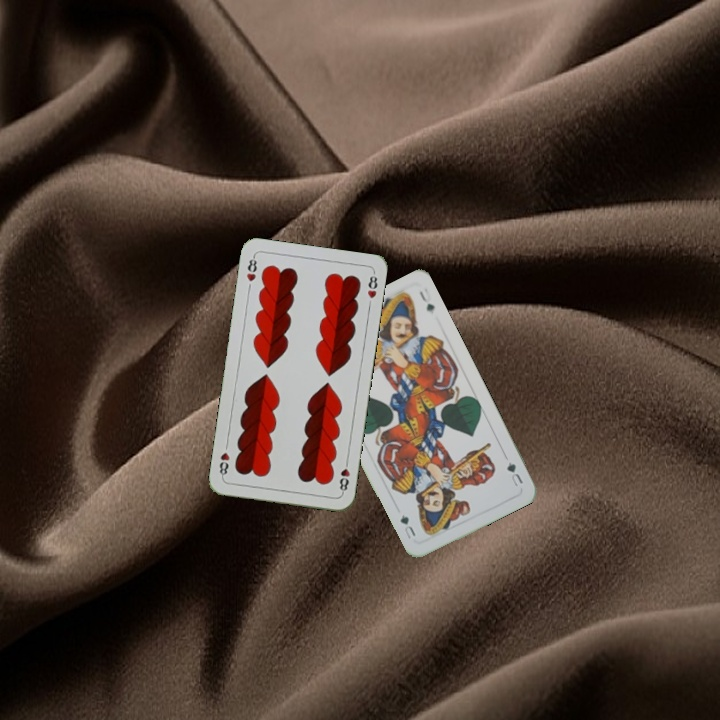GU: (503, 458, 526, 490)
H8: (335, 456, 352, 496), (242, 252, 259, 284)
